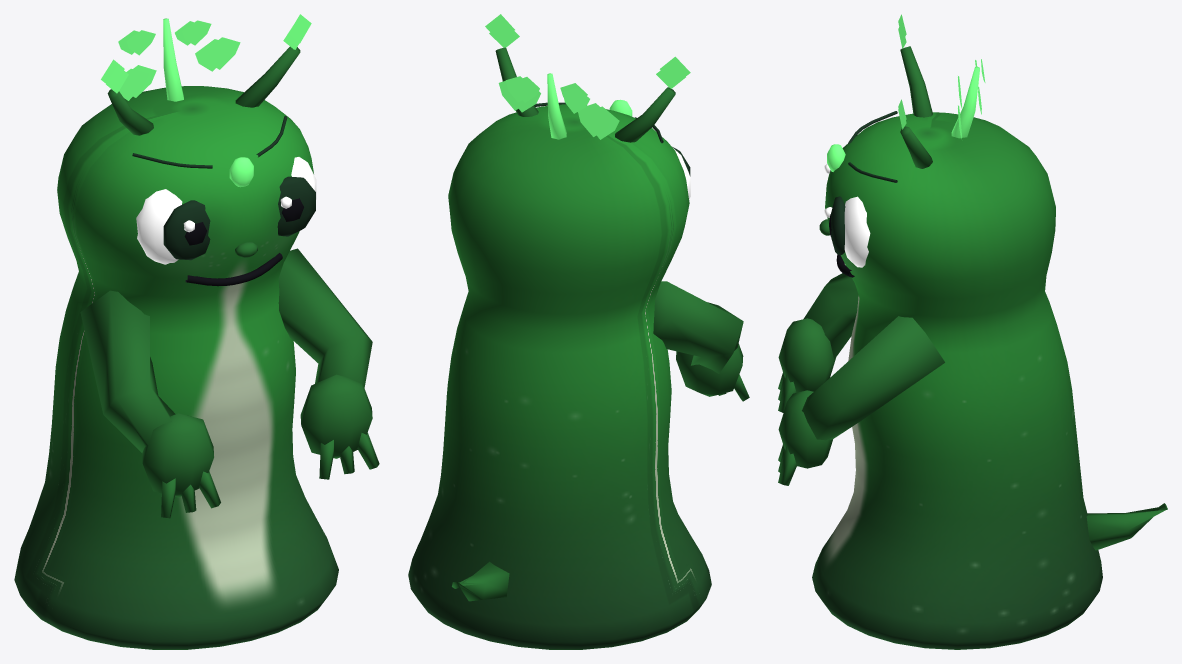
The model's file is enredadera_pixar.glb.
3 views of the same model, side by side, from view 1: azimuth 30°, elevation 25°; view 2: azimuth 150°, elevation 25°; view 3: azimuth 270°, elevation 25° (orthographic). The views are drawn at different scales.
Visible parts, largest first — view 1: enredadera_cuerpo; view 2: enredadera_cuerpo; view 3: enredadera_cuerpo.
Boxes of the visible parts, bbox=[...] form: enredadera_cuerpo: bbox=[14, 14, 379, 649]; enredadera_cuerpo: bbox=[408, 14, 749, 649]; enredadera_cuerpo: bbox=[778, 14, 1167, 649].
Size of the model in its own units: 0.302 by 0.58 by 0.3852.
5 materials, 1 textured.
